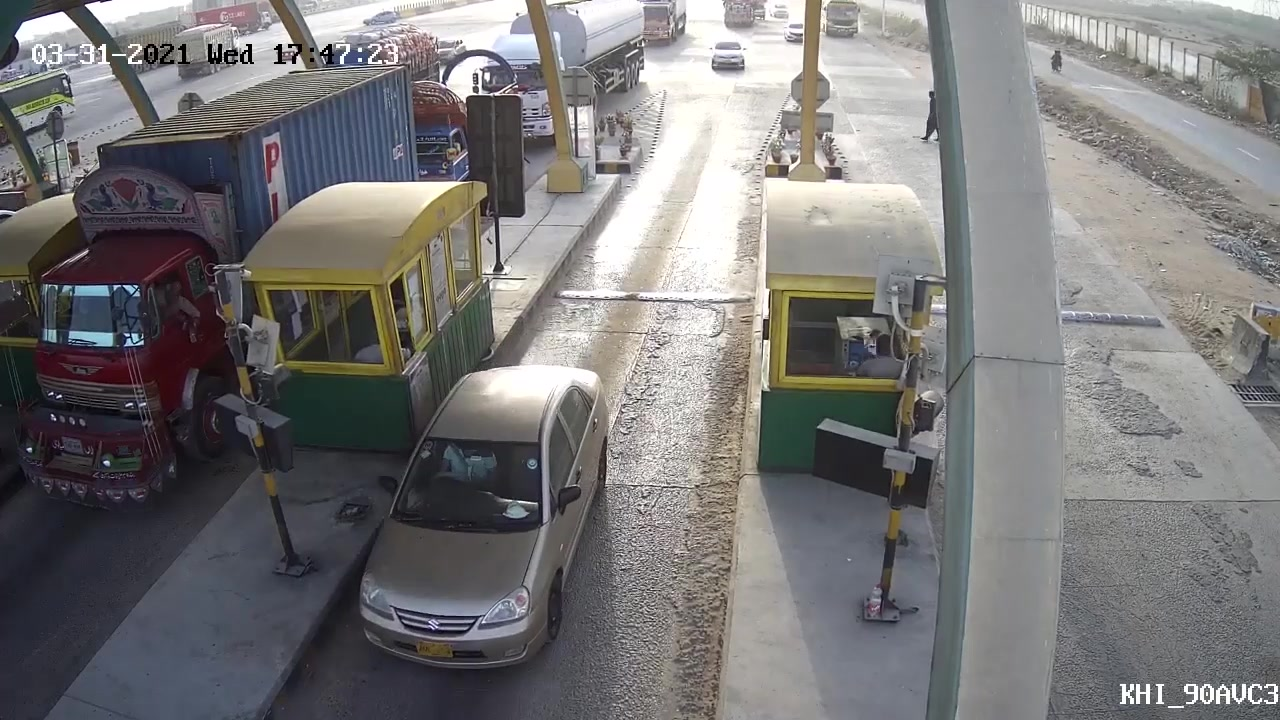F1: (353, 359, 620, 677)
